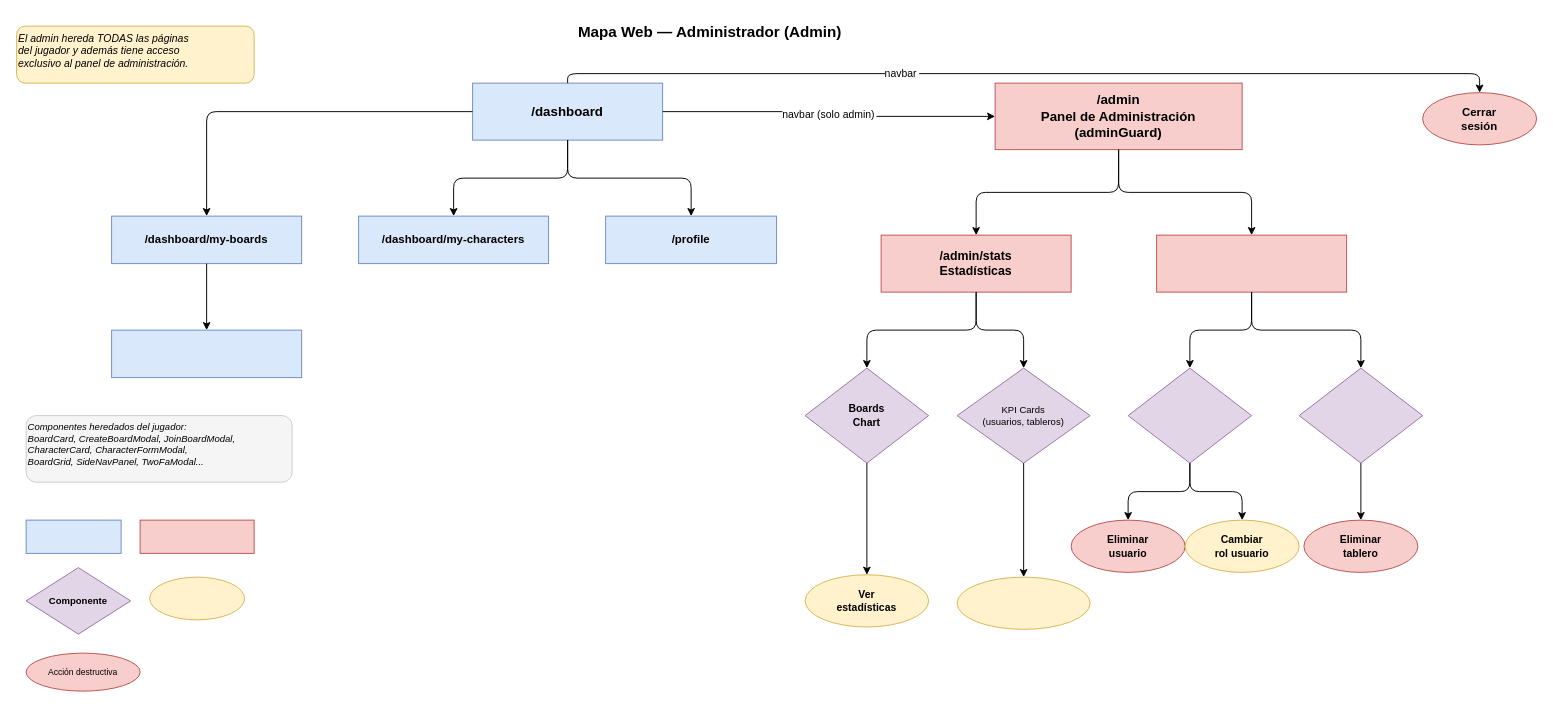
Image size: 1553x708. Some labels were removed from this diagram. Here are the shapes that lost their labels. From the top down, the centre of each, then its label:
At [1251,263]: "/admin/manage Gestión de Entidades".
At [206,353]: "/board/:id (fullscreen)".
At [1189,415]: "Users Table".
At [1360,415]: "Boards Table".
At [73,536]: "Página".
At [196,536]: "Página (admin)".
At [197,598]: "Acción".
At [1023,602]: "Ver KPIs (total users/boards)".
